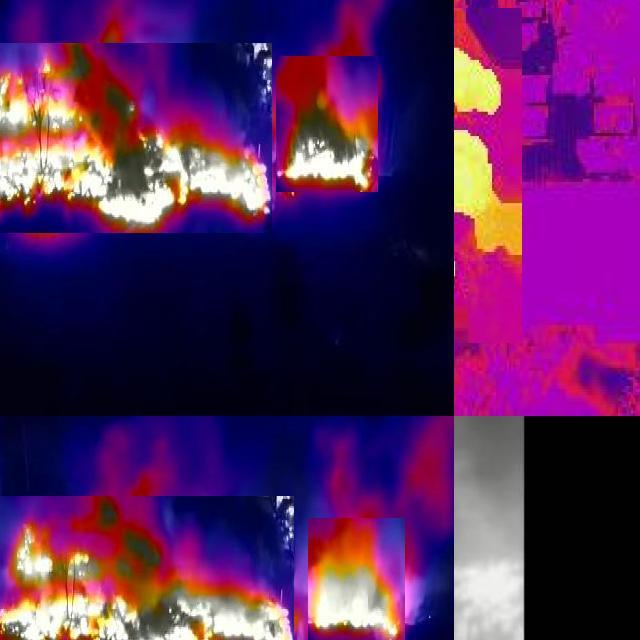fire: (1, 43, 272, 233), (1, 496, 294, 640), (455, 8, 522, 343), (276, 56, 378, 192), (308, 518, 405, 640)
